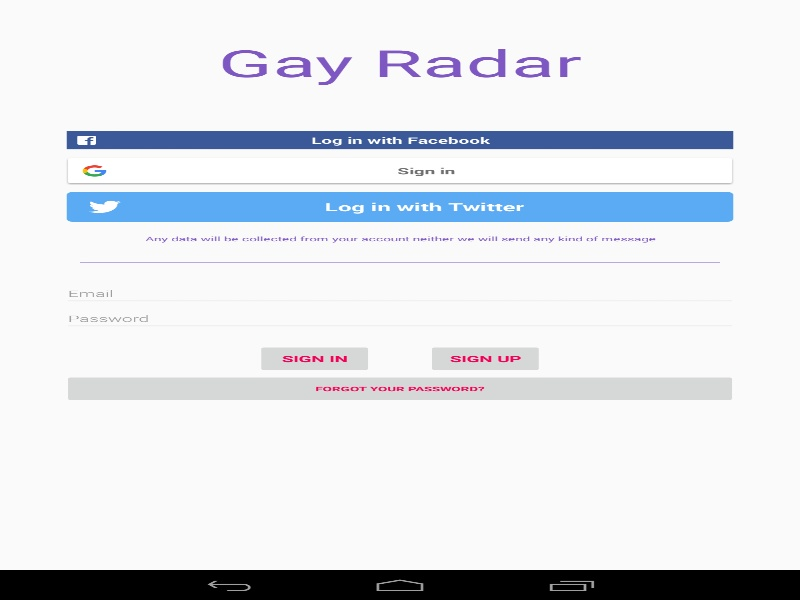Button: (62, 155, 737, 185), (62, 373, 737, 403), (66, 191, 733, 221), (66, 131, 733, 149), (426, 343, 544, 373), (256, 343, 373, 373)
Input: (62, 281, 737, 306), (62, 306, 737, 331)
